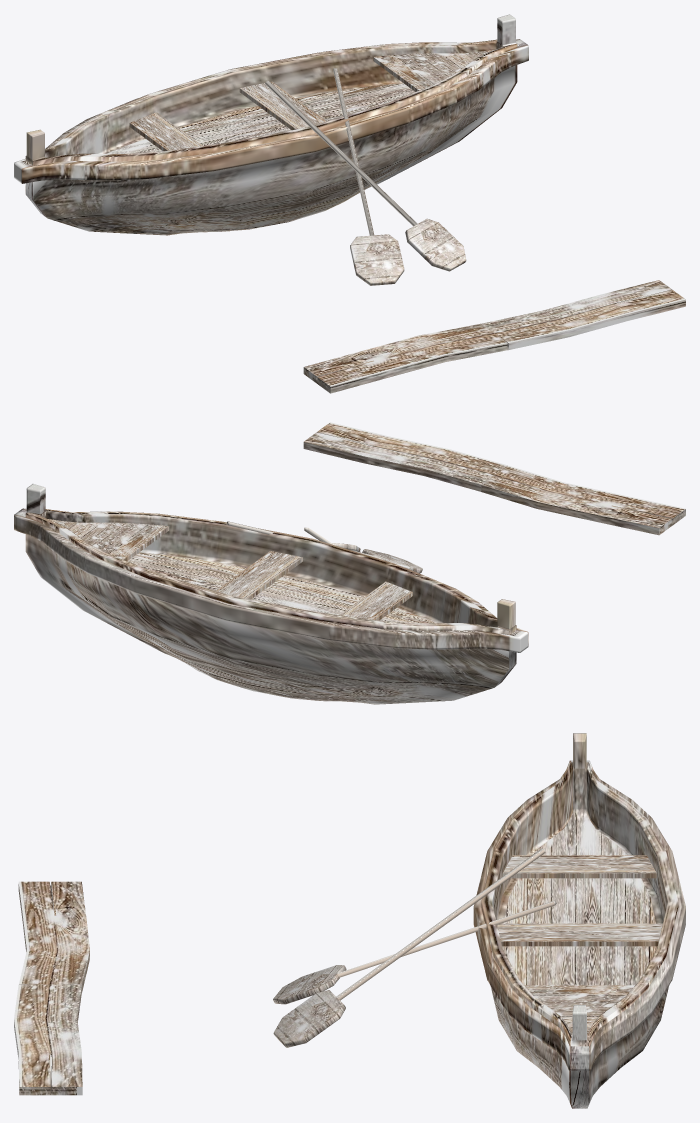
File: Ship Snow Env.fbx
The picture shows the model from 3 angles, top to bottom: view 1: azimuth 30°, elevation 25°; view 2: azimuth 150°, elevation 25°; view 3: azimuth 270°, elevation 25°; orthographic projection. The views are drawn at different scales.
Parts seen in each view (by area): view 1: Ship, Bridge; view 2: Ship, Bridge; view 3: Ship, Bridge.
Part boxes in pixels (<box>): Ship: <box>14,14,528,285</box>; Bridge: <box>303,280,685,393</box>; Ship: <box>14,484,528,704</box>; Bridge: <box>303,422,685,535</box>; Ship: <box>273,733,685,1108</box>; Bridge: <box>14,881,89,1095</box>.
Bounding box in the file's own units: 957 × 260 × 929.
